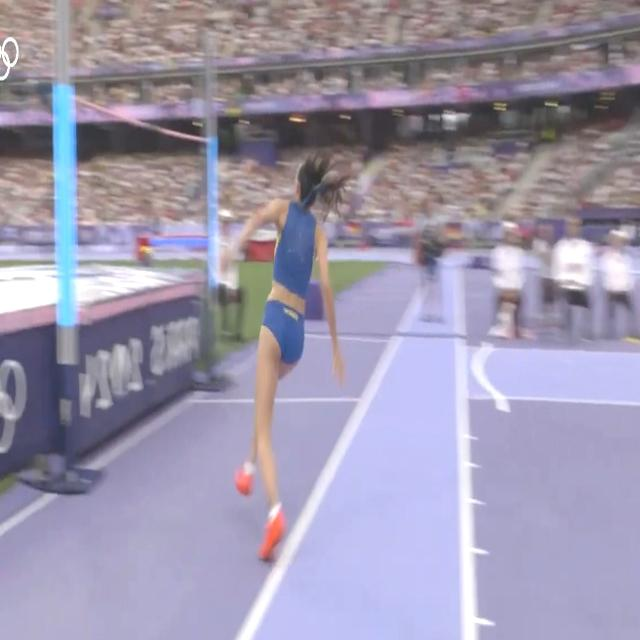run: (226, 161, 342, 566)
